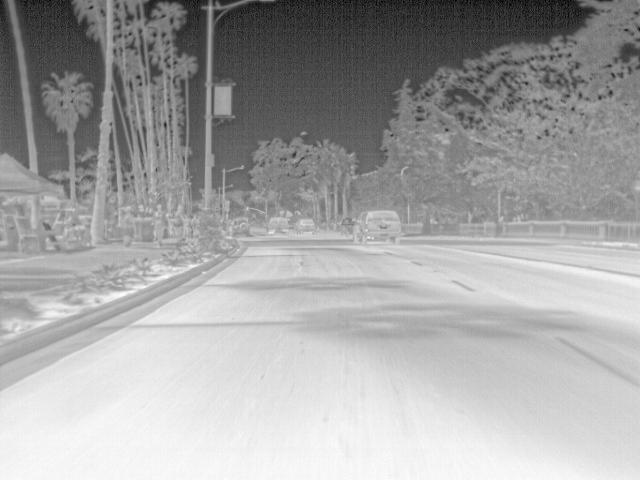car: (355, 208, 405, 242), (230, 216, 254, 236), (269, 214, 290, 234), (297, 218, 321, 234), (340, 215, 356, 234)
person: (152, 204, 170, 248), (122, 206, 138, 248), (189, 212, 202, 238), (134, 202, 151, 220)
